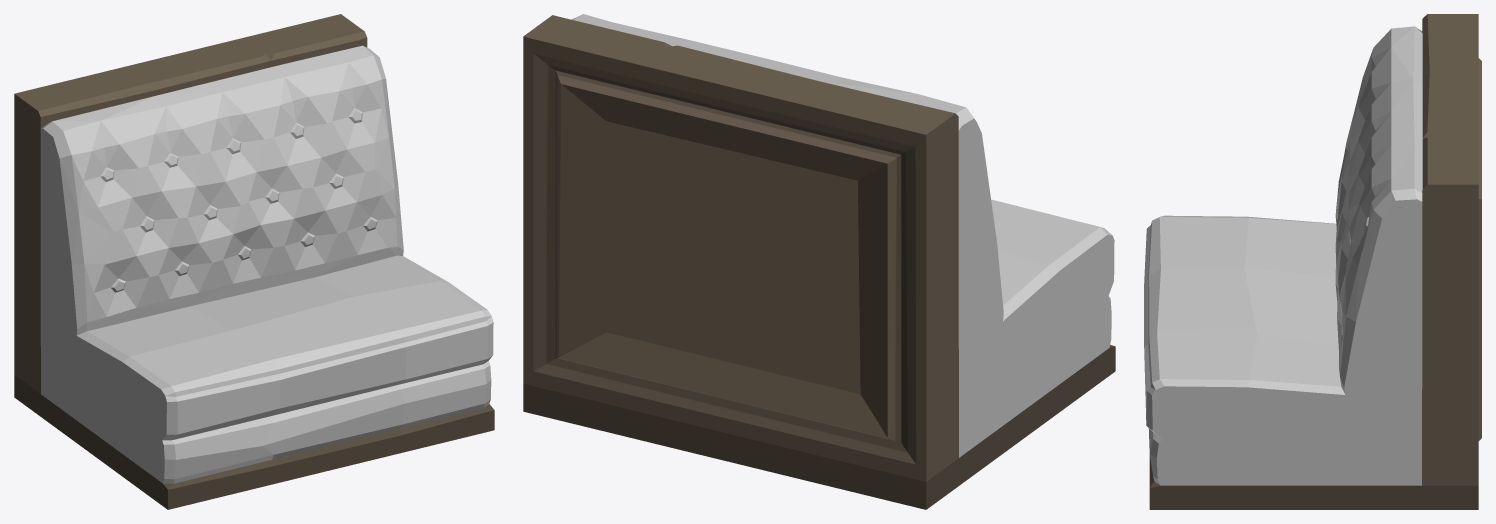
The model's file is SM_Prop_Sofa_01_Straight_02.fbx.
3 views of the same model, side by side, from view 1: azimuth 30°, elevation 25°; view 2: azimuth 150°, elevation 25°; view 3: azimuth 270°, elevation 25° (orthographic). The views are drawn at different scales.
Parts seen in each view (by area): view 1: SM_Prop_Sofa_01_Straight_02; view 2: SM_Prop_Sofa_01_Straight_02; view 3: SM_Prop_Sofa_01_Straight_02.
Boxes of the visible parts, x1,y1,x2,y2 form: SM_Prop_Sofa_01_Straight_02: (14, 14, 494, 509); SM_Prop_Sofa_01_Straight_02: (523, 14, 1115, 509); SM_Prop_Sofa_01_Straight_02: (1144, 14, 1481, 509).
Size of the model in its own units: 125 by 111 by 105.
